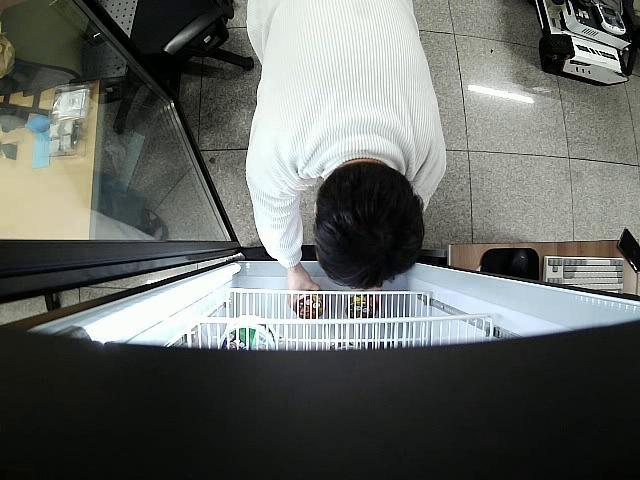06_nuguri_S: (294, 292, 326, 320)
